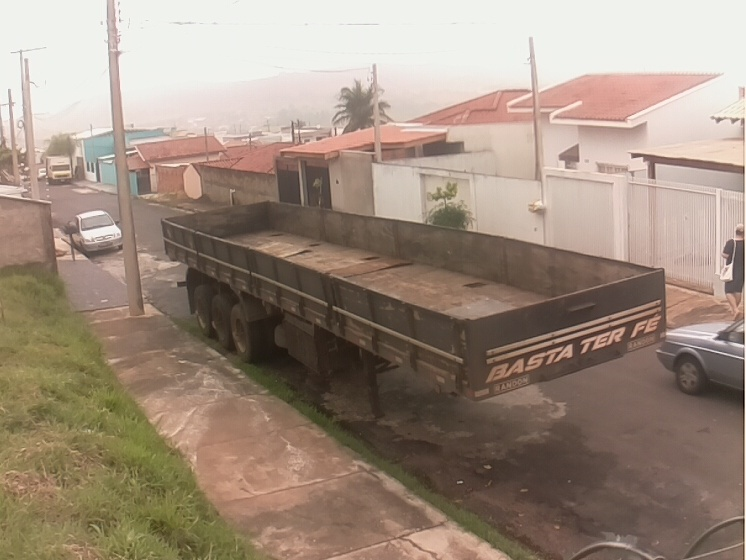person: (718, 223, 746, 321)
